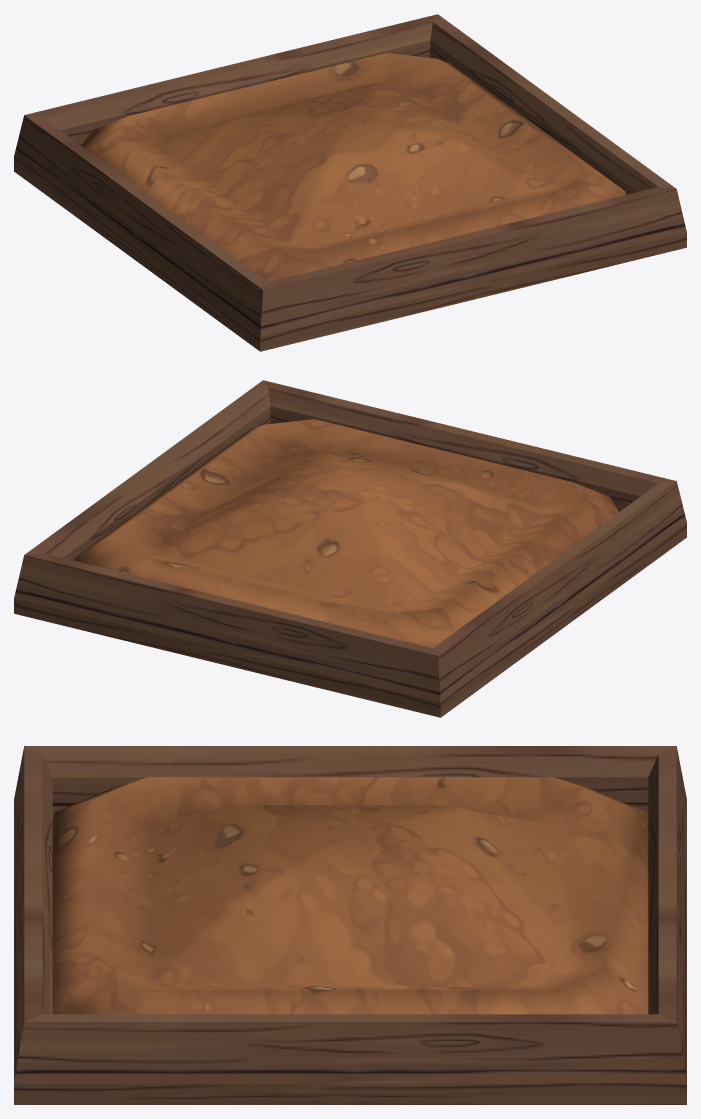
The model's file is Soil01.glb.
3 renders of one model, top to bottom at view 1: azimuth 30°, elevation 25°; view 2: azimuth 150°, elevation 25°; view 3: azimuth 270°, elevation 25°, orthographic. The views are drawn at different scales.
Visible parts, largest first — view 1: Soil; view 2: Soil; view 3: Soil.
Part boxes in pixels (x1=…): Soil: x1=14, y1=14, x2=686, y2=351; Soil: x1=14, y1=380, x2=686, y2=717; Soil: x1=14, y1=746, x2=686, y2=1104.
Size of what is drawn, in the model's own units: 2 by 0.4241 by 2.
Materials: 1 (1 with a texture image).
